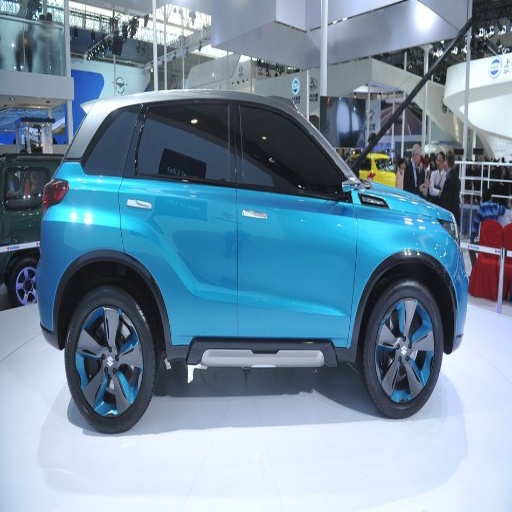back_right_door: (120, 100, 237, 344)
front_right_door: (237, 100, 356, 338)
